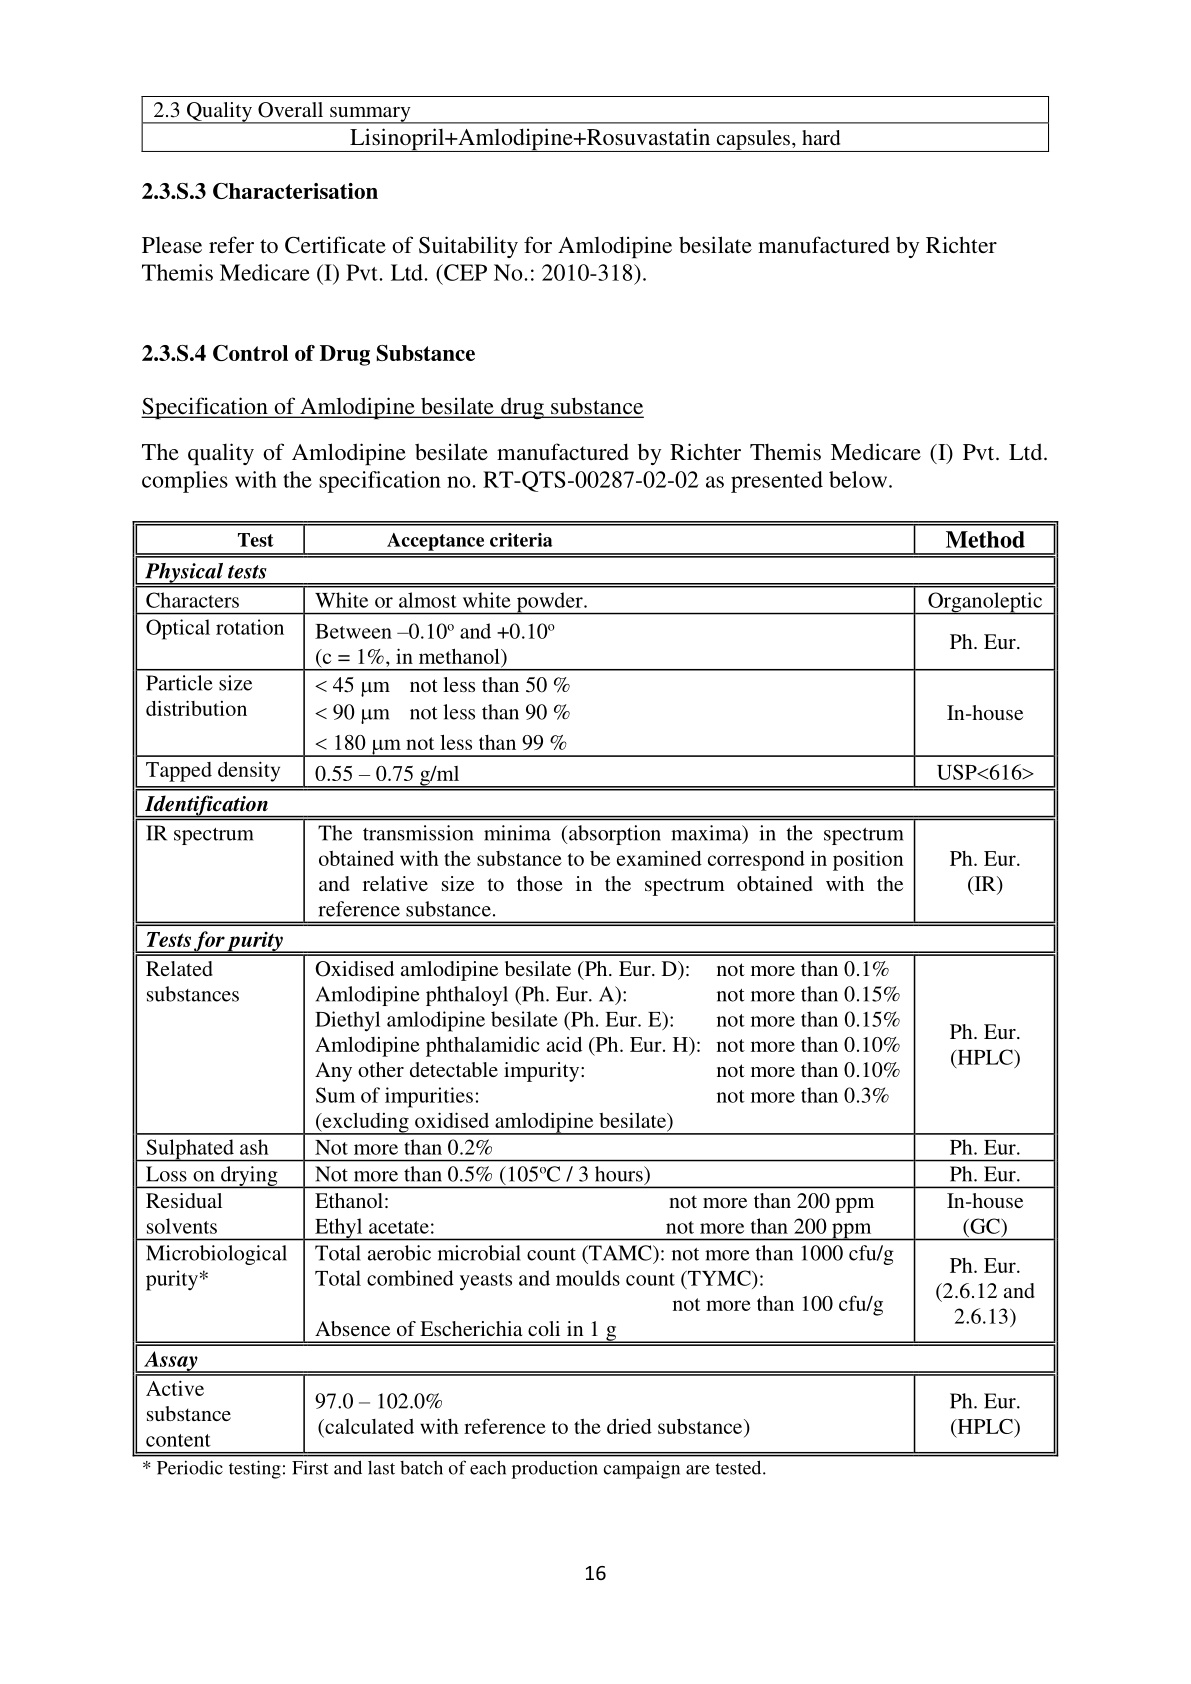full_lined: (140, 94, 1051, 152)
merged_cells: (131, 521, 1060, 1456)
